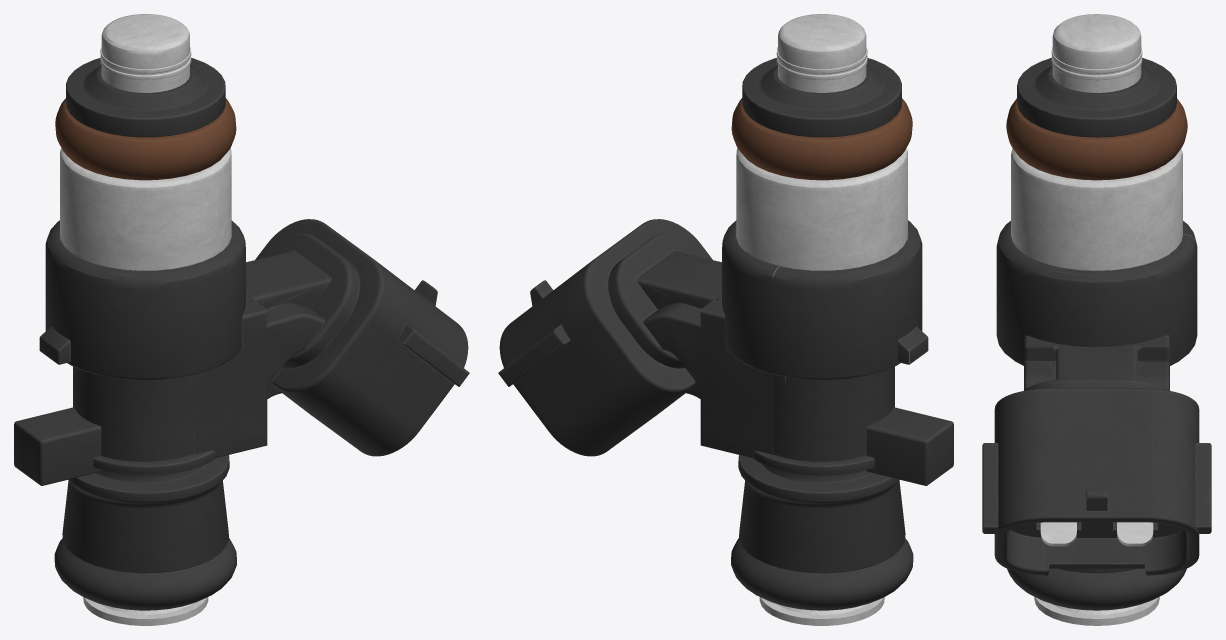
File: injektor.glb
3 views of the same model, side by side, from view 1: azimuth 30°, elevation 25°; view 2: azimuth 150°, elevation 25°; view 3: azimuth 270°, elevation 25° (orthographic).
Parts seen in each view (by area): view 1: injektor; view 2: injektor; view 3: injektor.
Part boxes in pixels (x1,y1,x2,y2): injektor: (14,14,469,625); injektor: (498,14,953,625); injektor: (982,14,1211,625).
Bounding box in the file's own units: 3.45 × 4.61 × 1.68.
1 material, 1 textured.
